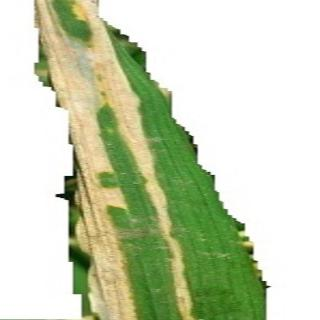Hawar-Daun: (34, 0, 203, 315)
